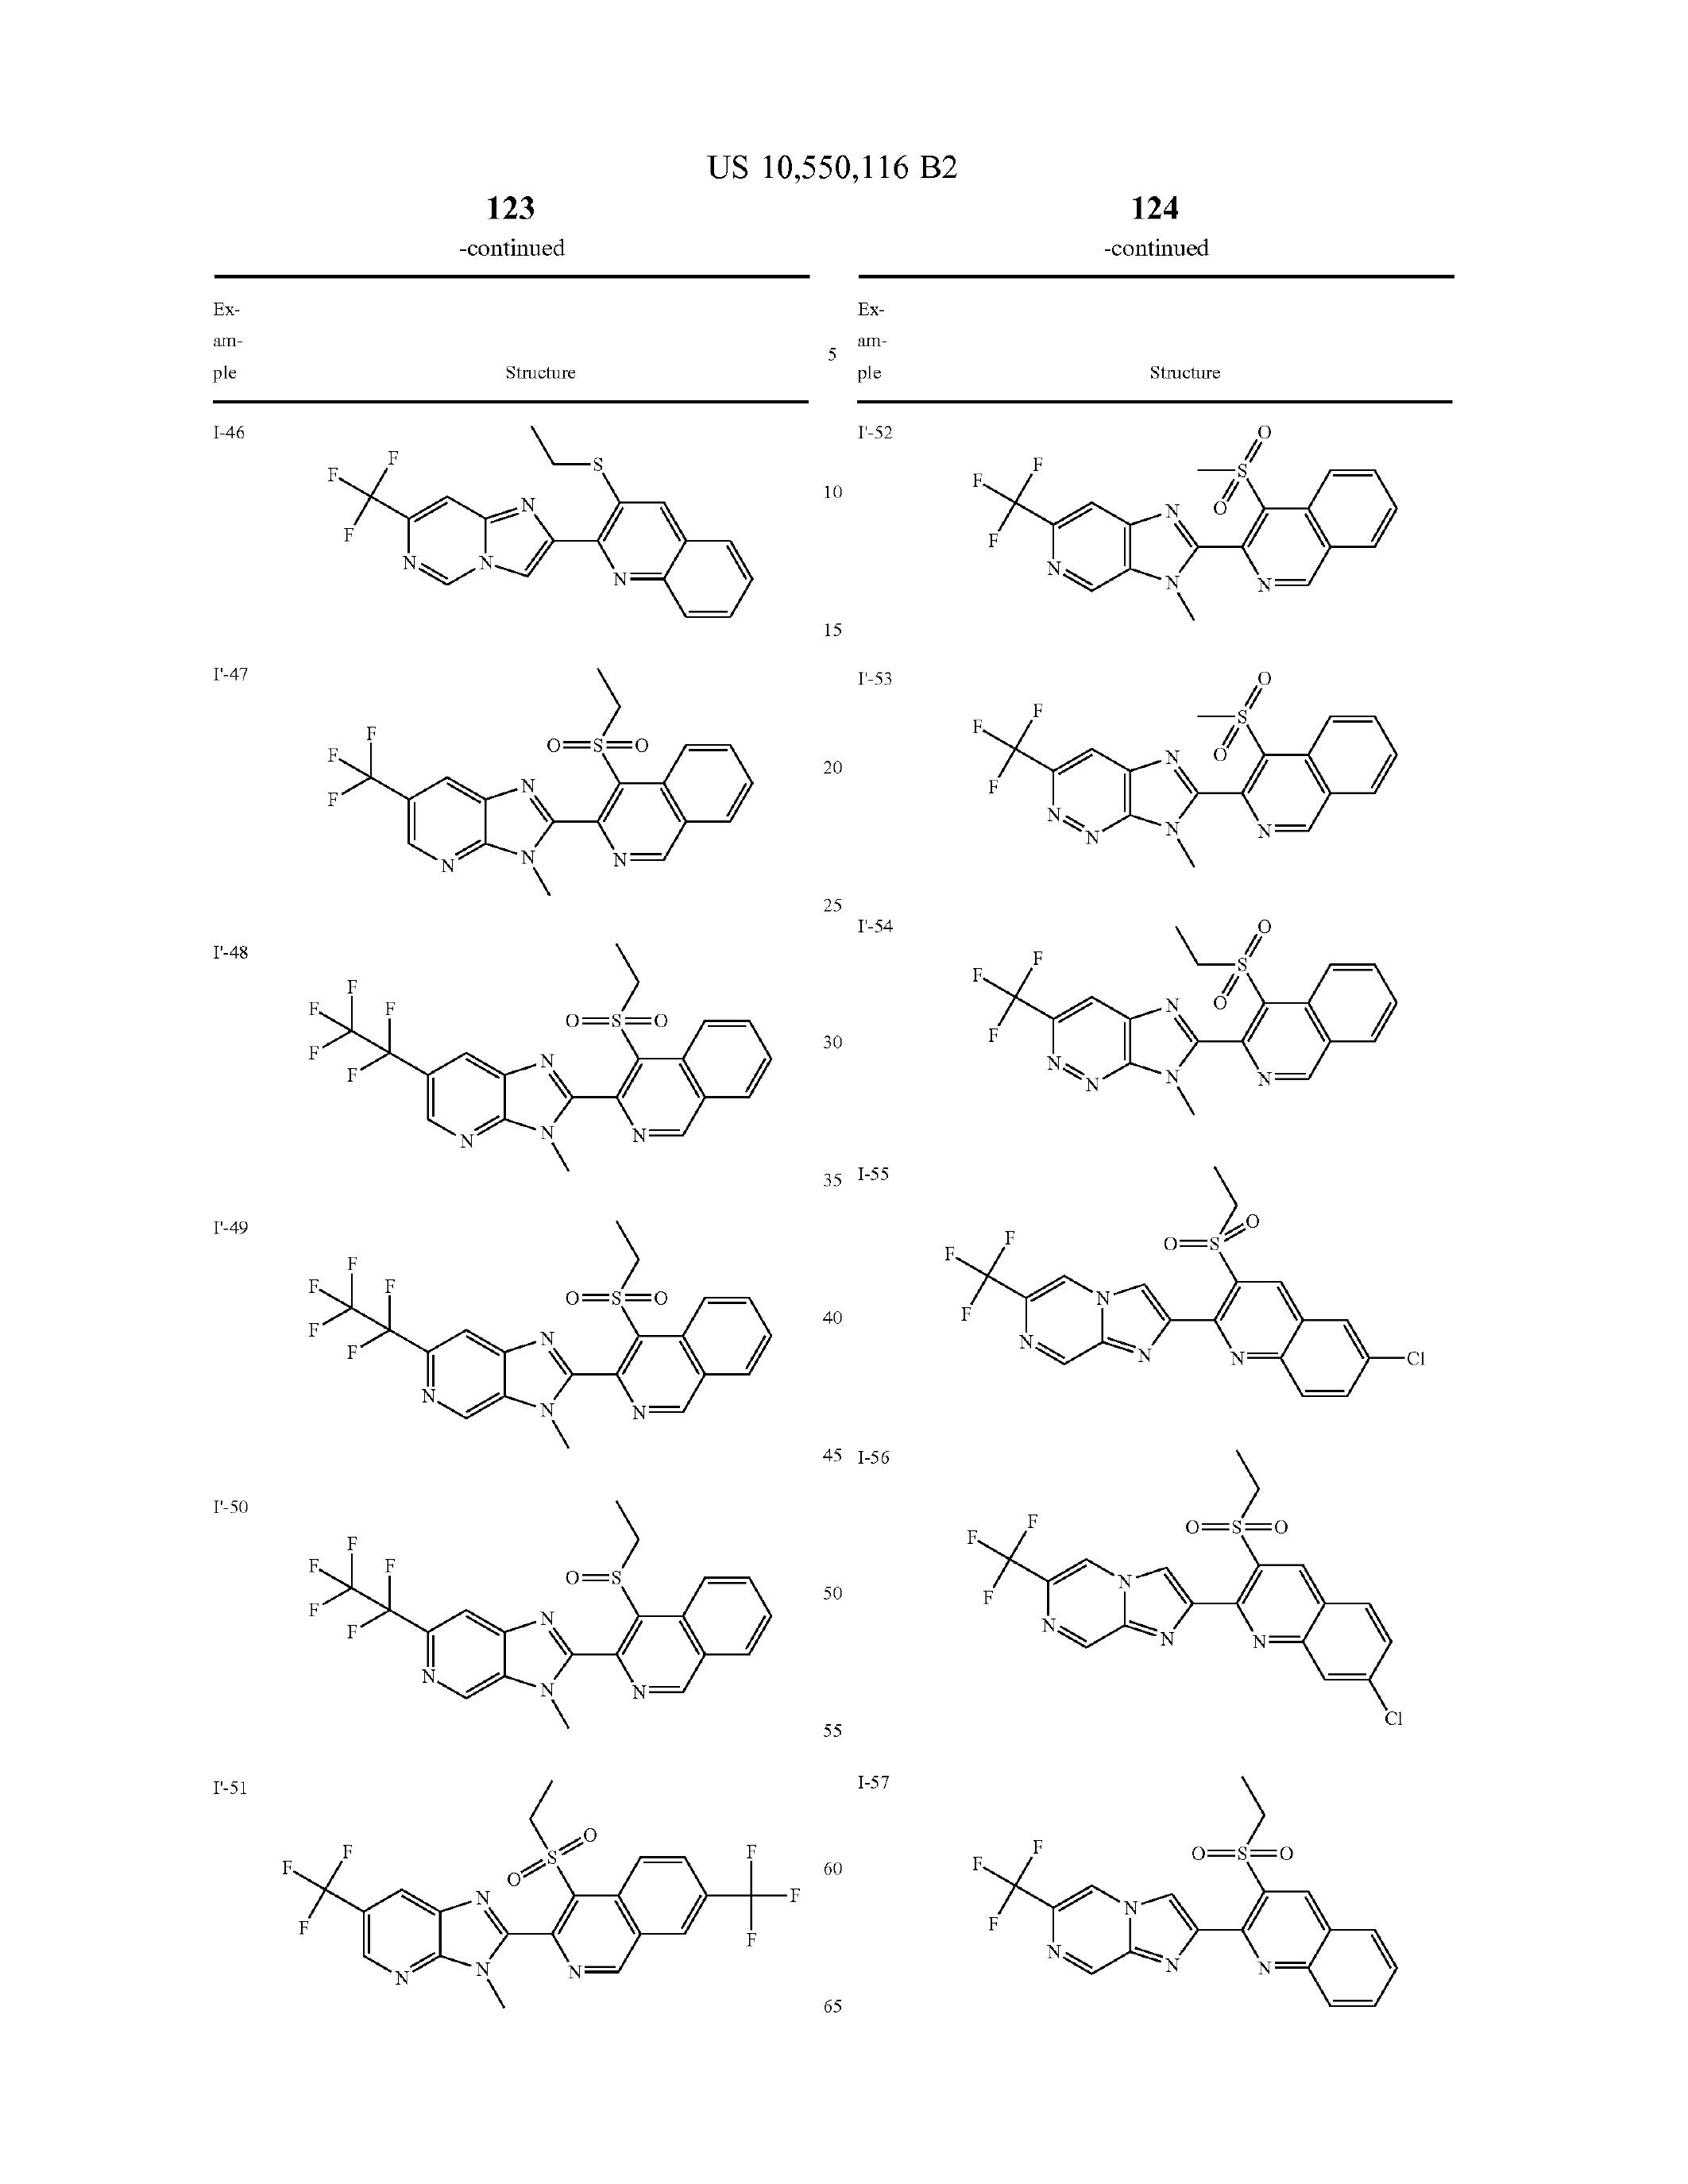relevant-structures: (234, 925, 842, 1175), (284, 1776, 782, 2063), (963, 1783, 1465, 2062), (972, 1455, 1415, 1762), (262, 1498, 803, 1748), (920, 1170, 1452, 1418), (278, 1202, 810, 1447), (293, 411, 787, 663), (961, 427, 1457, 651), (284, 672, 761, 899), (947, 906, 1424, 1122), (952, 677, 1394, 865)
